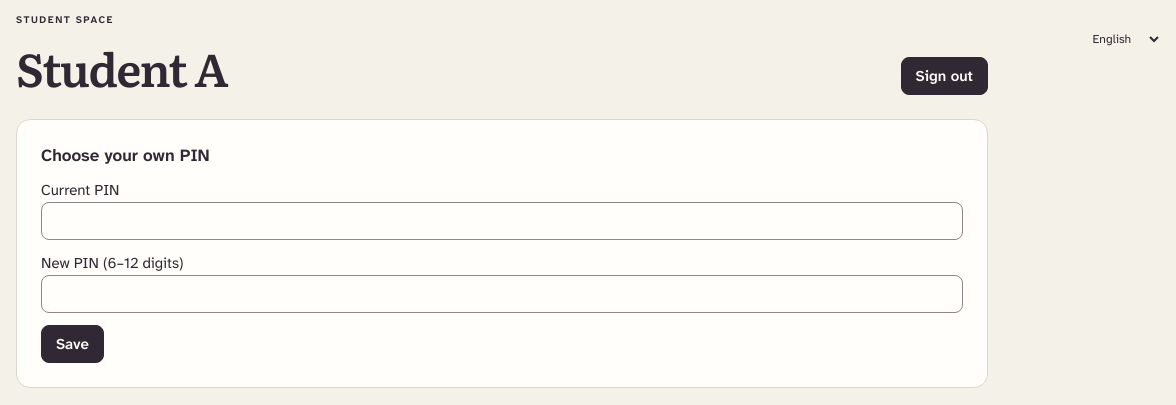
Test: student portal › requires the initial PIN change before loading released work
Check: the heading "Choose your own PIN" is shown, box [41,144,210,166]
Type "12345678" into the password field labelled "Current PIN" at (502, 221), box [41,202,963,240]
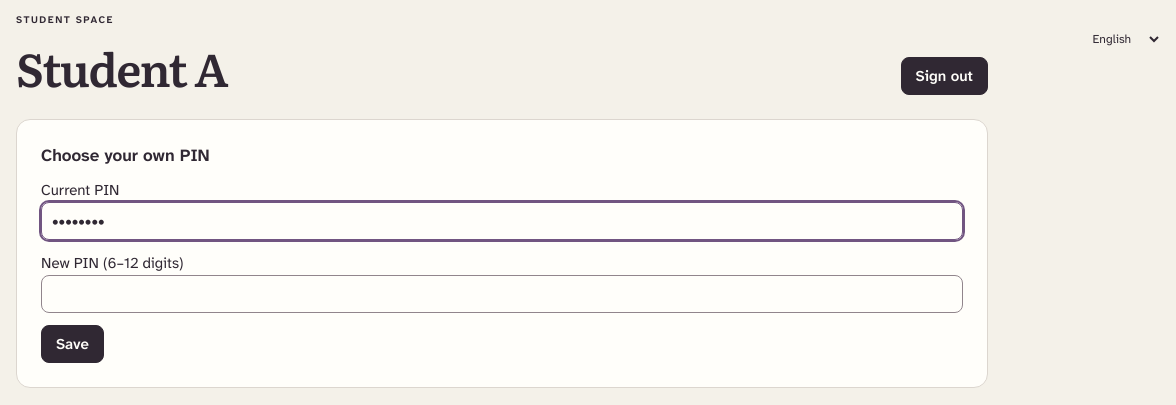
Type "87654321" into the password field labelled "New PIN (6–12 digits)" at (502, 294), box [41,275,963,313]
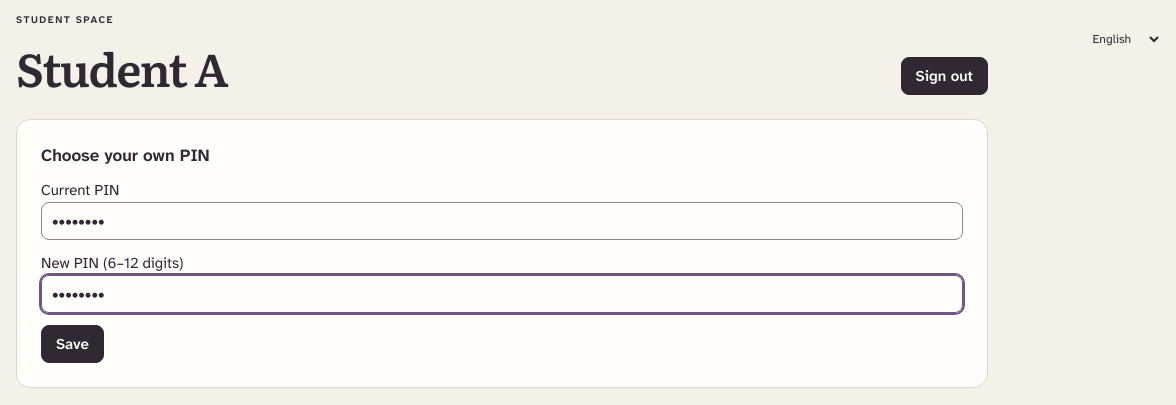
Click the button "Save" at (72, 344), box [41,325,104,363]
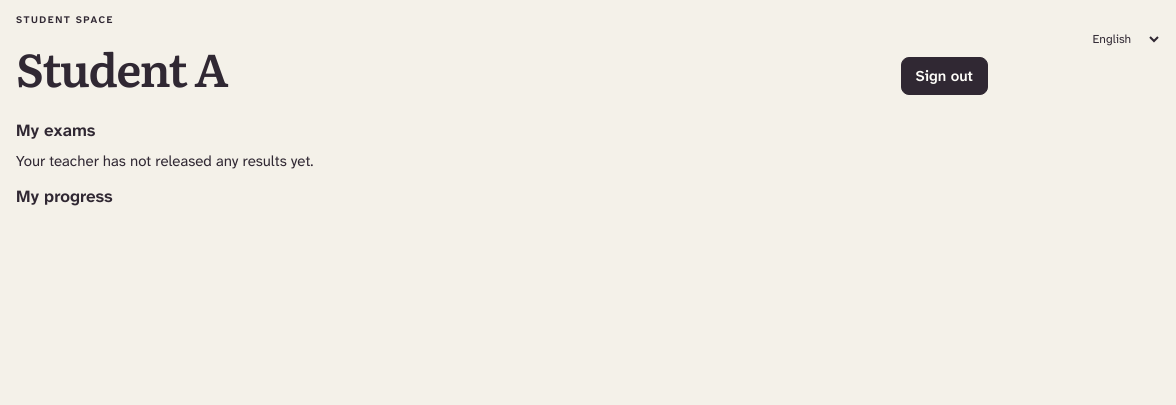
Check: the text "Your teacher has not released any results yet." is shown, box [16,151,313,171]
